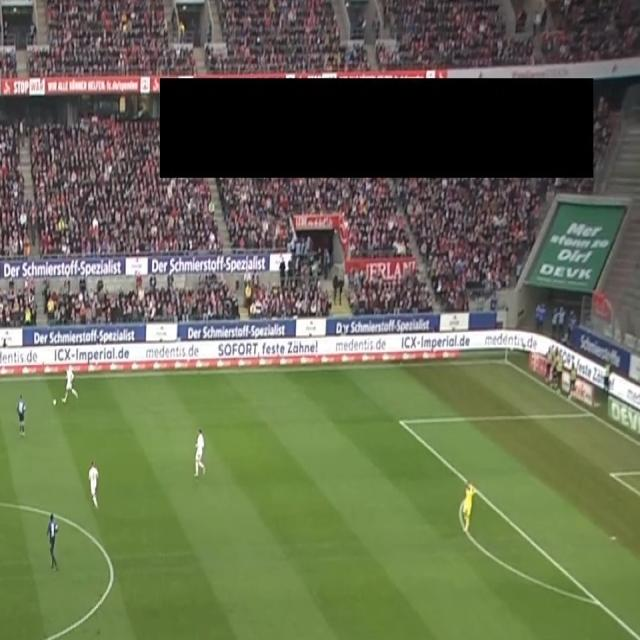ball: (52, 397, 57, 407)
